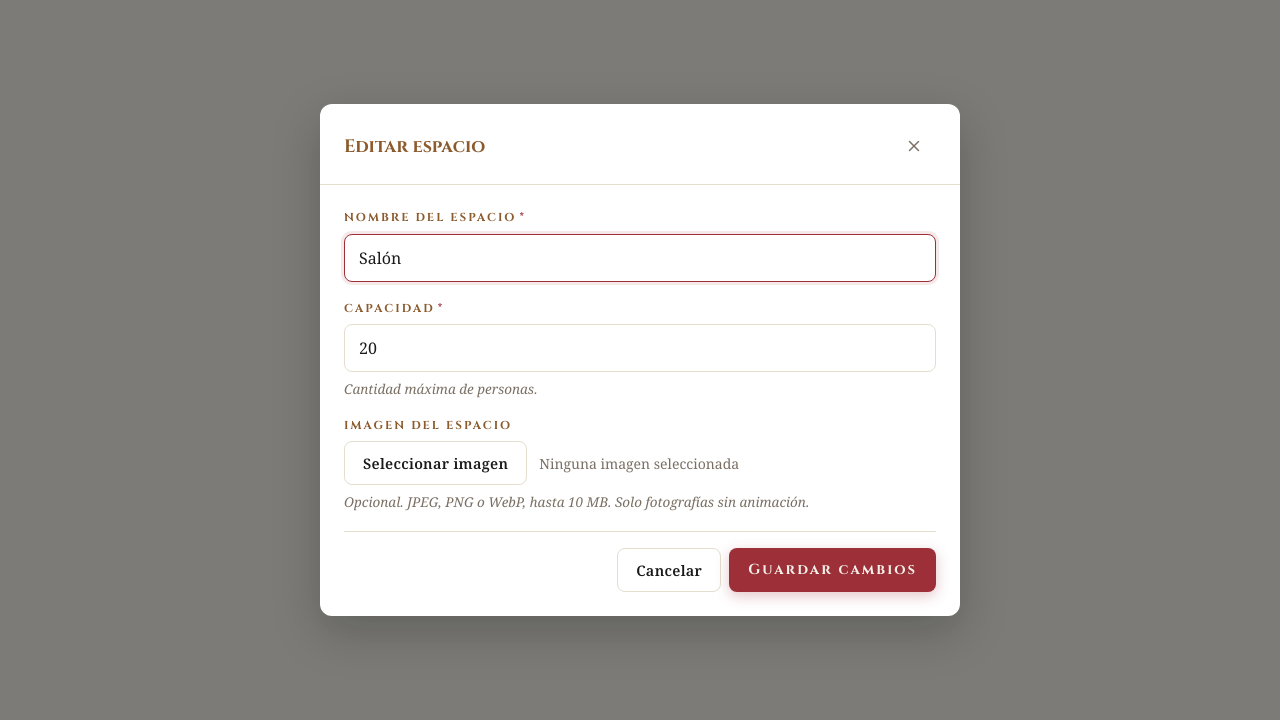
Test: validación y envío de espacios › no envía capacidad inválida -1 incluso con envío programático
Replace the text in the number field labelled "Capacidad*" with "-1" at (640, 348), box [344,324,936,372]
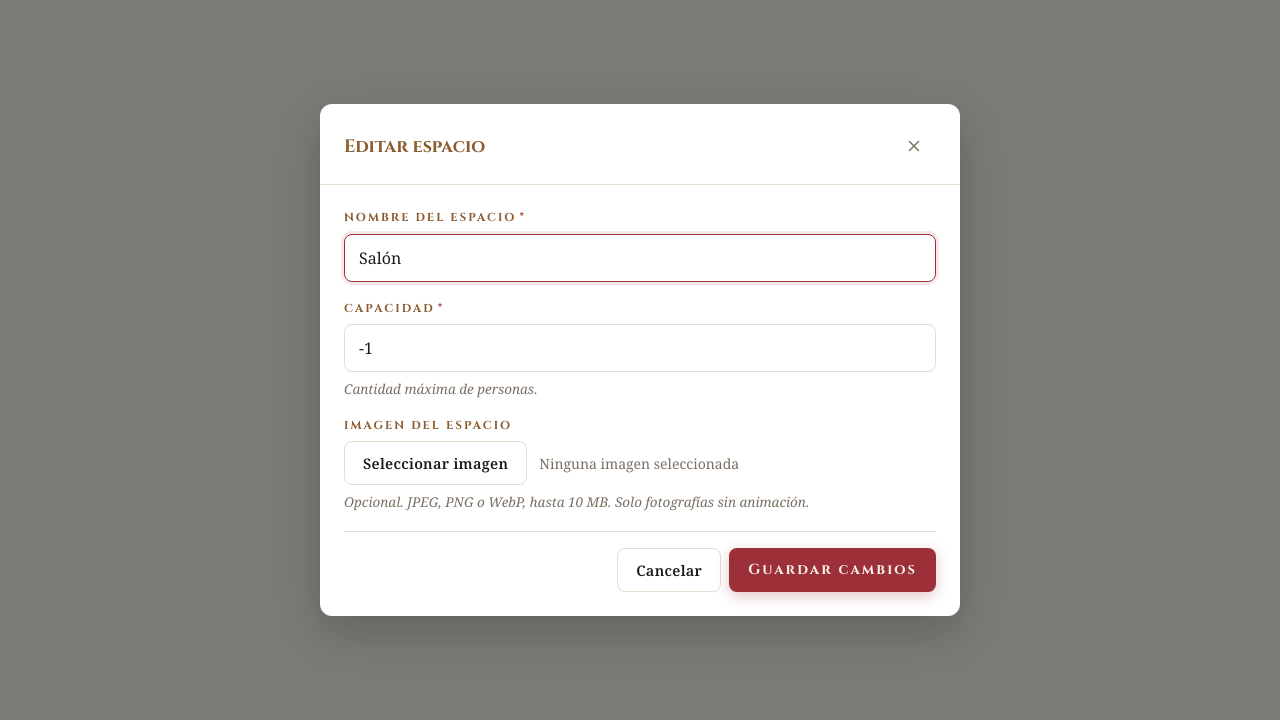
Submit the form labelled "Capacidad", box [344,209,936,592]
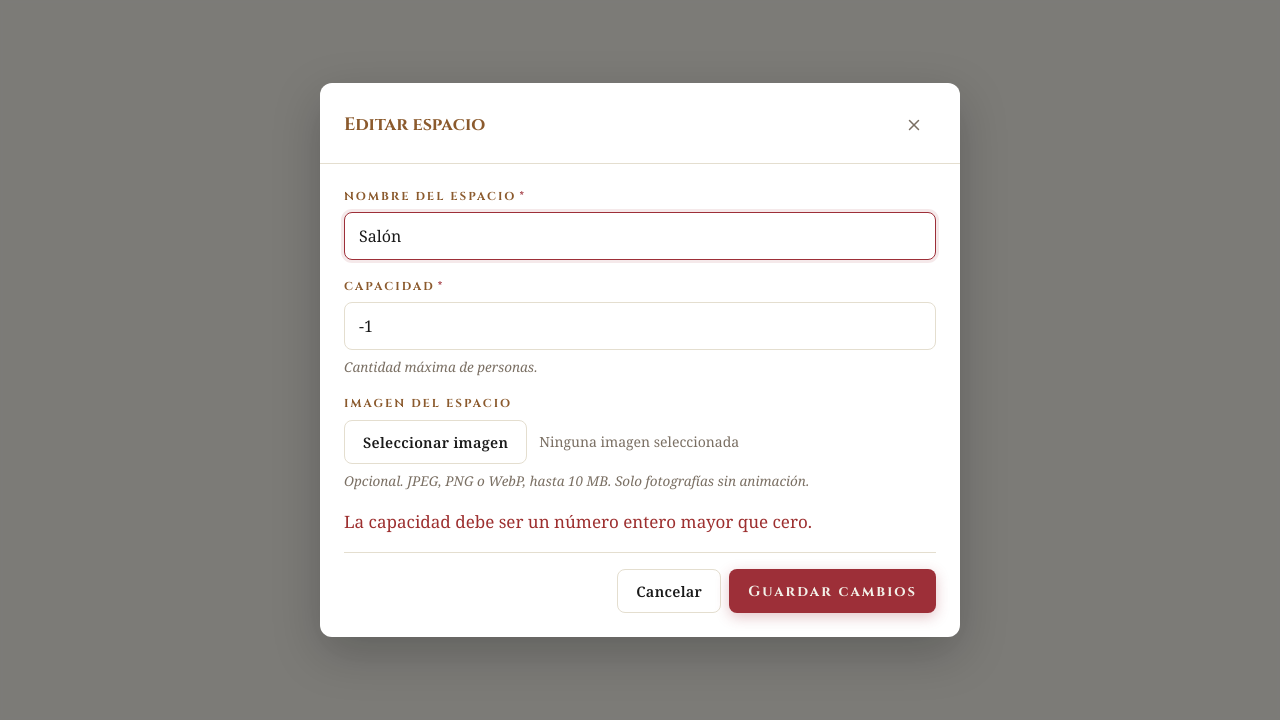
Result: the message shows "entero mayor que cero" at [344,510,812,533]
